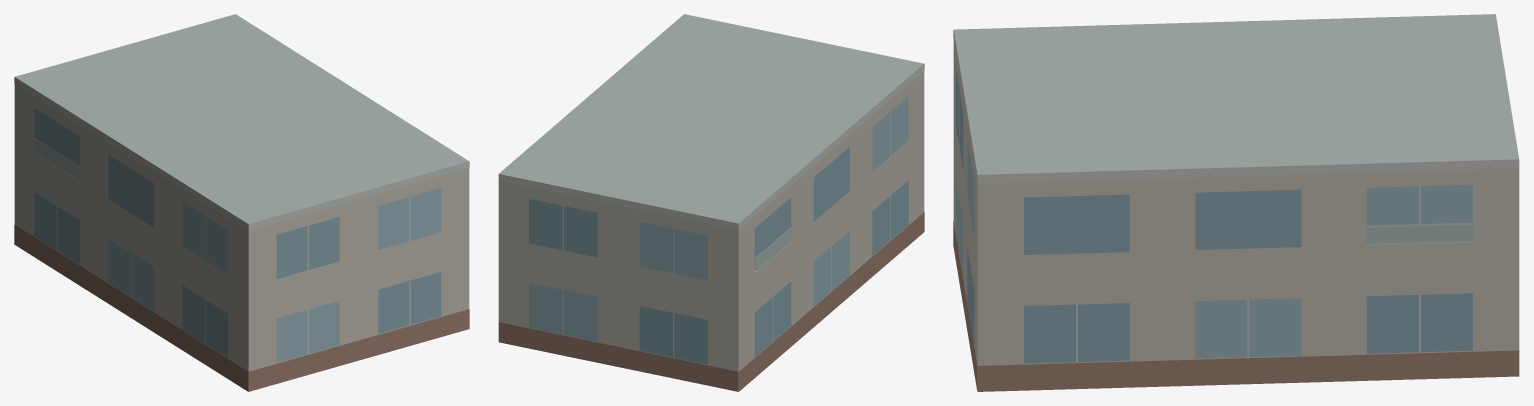
The model's file is survey-upis-32701309.glb.
3 views of the same model, side by side, from view 1: azimuth 30°, elevation 25°; view 2: azimuth 150°, elevation 25°; view 3: azimuth 270°, elevation 25° (orthographic). The views are drawn at different scales.
Visible parts, largest first — view 1: survey-upis-32701309.tmp; view 2: survey-upis-32701309.tmp; view 3: survey-upis-32701309.tmp.
Boxes of the visible parts, left/top/right/bottom form: survey-upis-32701309.tmp: left=14, top=14, right=469, bottom=391; survey-upis-32701309.tmp: left=498, top=14, right=924, bottom=391; survey-upis-32701309.tmp: left=953, top=14, right=1519, bottom=391.
Bounding box in the file's own units: 9.7 × 6.1 × 14.42.
